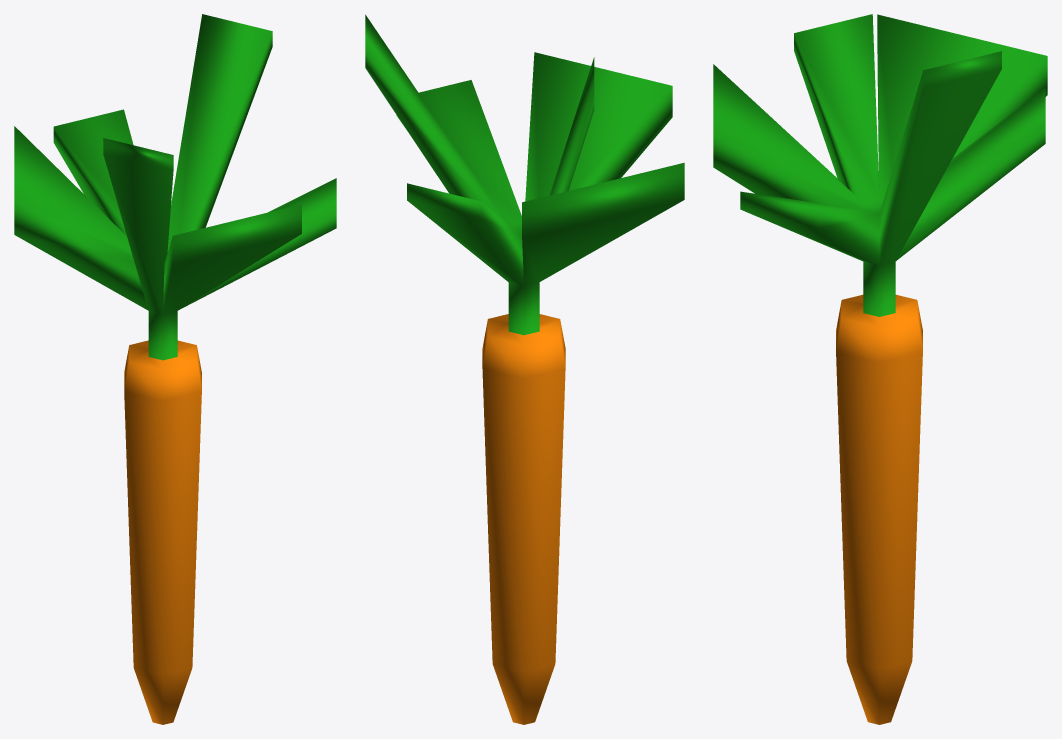
The model's file is carrot.obj.
3 renders of one model, left to right at view 1: azimuth 30°, elevation 25°; view 2: azimuth 150°, elevation 25°; view 3: azimuth 270°, elevation 25°, orthographic. The views are drawn at different scales.
Visible parts, largest first — view 1: cylinder3_leaf, cylinder3_carrot; view 2: cylinder3_leaf, cylinder3_carrot; view 3: cylinder3_leaf, cylinder3_carrot.
Part boxes in pixels (x1,y1,x2,y2): cylinder3_leaf: [14, 14, 336, 360]; cylinder3_carrot: [124, 340, 201, 724]; cylinder3_leaf: [365, 14, 684, 335]; cylinder3_carrot: [482, 314, 565, 724]; cylinder3_leaf: [713, 14, 1047, 316]; cylinder3_carrot: [836, 294, 922, 724].
Size of the model in its own units: 2.22 by 4.62 by 1.94.
